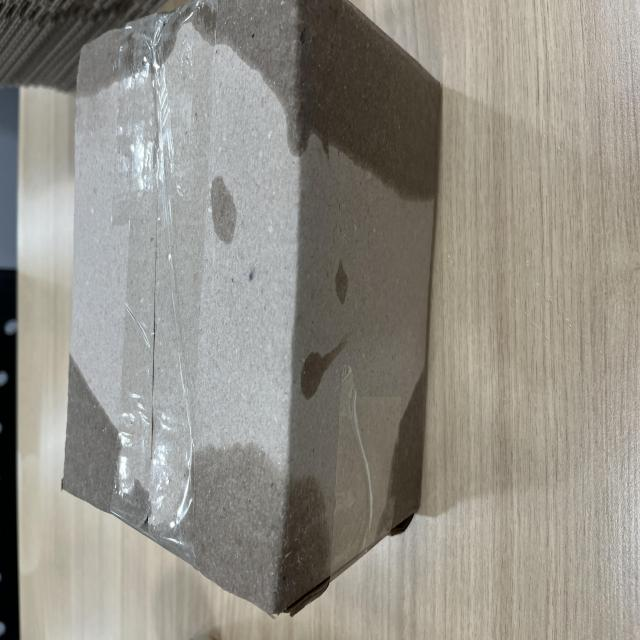wet: (10, 90, 480, 595)
